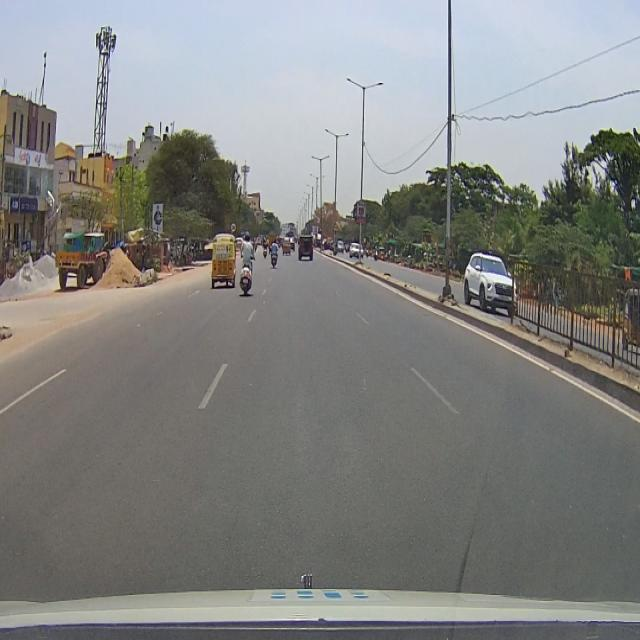auto ahead at: (205, 228, 236, 296)
motorcycle ahead at: (236, 258, 259, 302)
truck ahead at: (53, 217, 109, 292)
